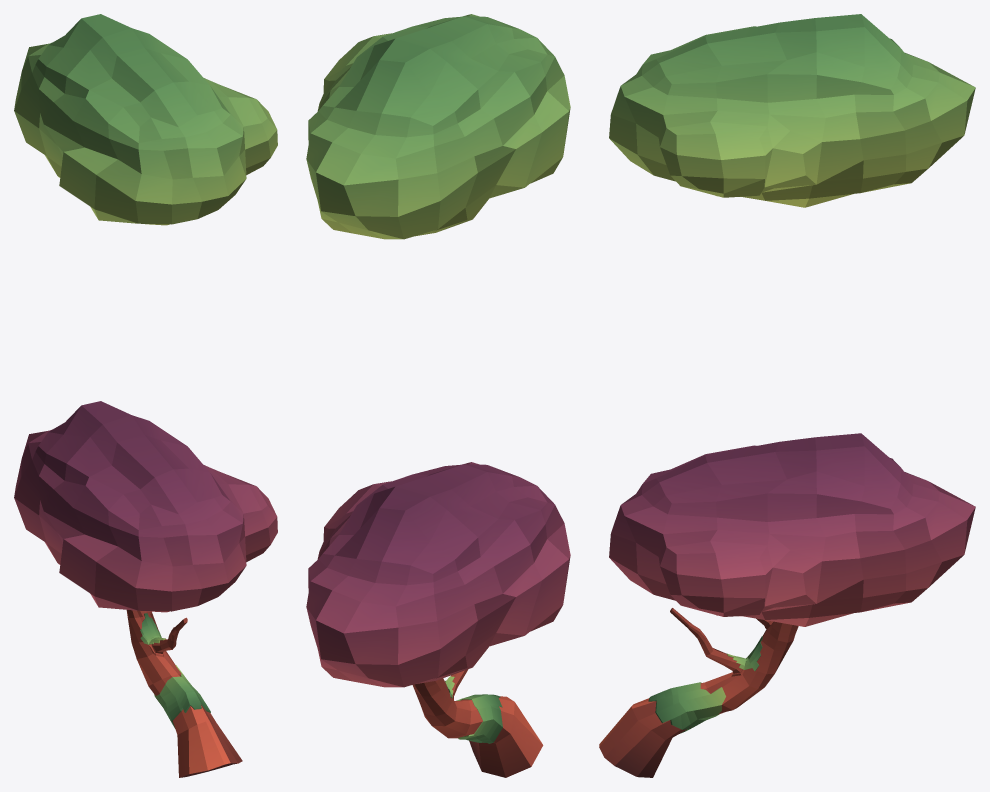
The model's file is Level2_Curvetree_Purple.fbx.
3 views of the same model, side by side, from view 1: azimuth 30°, elevation 25°; view 2: azimuth 150°, elevation 25°; view 3: azimuth 270°, elevation 25° (orthographic). The views are drawn at different scales.
Parts seen in each view (by area): view 1: Treetop_LowPoly, Treetop_LowPoly1, Tree_LowPoly1, Moss; view 2: Treetop_LowPoly, Treetop_LowPoly1, Tree_LowPoly1, Moss; view 3: Treetop_LowPoly, Treetop_LowPoly1, Tree_LowPoly1, Moss.
Part boxes in pixels (x1,y1,x2,y2): Treetop_LowPoly: (14,401,277,612); Treetop_LowPoly1: (14,14,277,225); Tree_LowPoly1: (126,610,242,777); Moss: (140,613,210,728); Treetop_LowPoly: (306,462,570,687); Treetop_LowPoly1: (306,14,570,239); Tree_LowPoly1: (412,669,543,777); Moss: (445,676,502,743); Treetop_LowPoly: (609,433,975,626); Treetop_LowPoly1: (609,14,975,207); Tree_LowPoly1: (599,608,798,777); Moss: (648,636,762,733).
Bounding box in the file's own units: 12.64 × 20 × 43.83.
